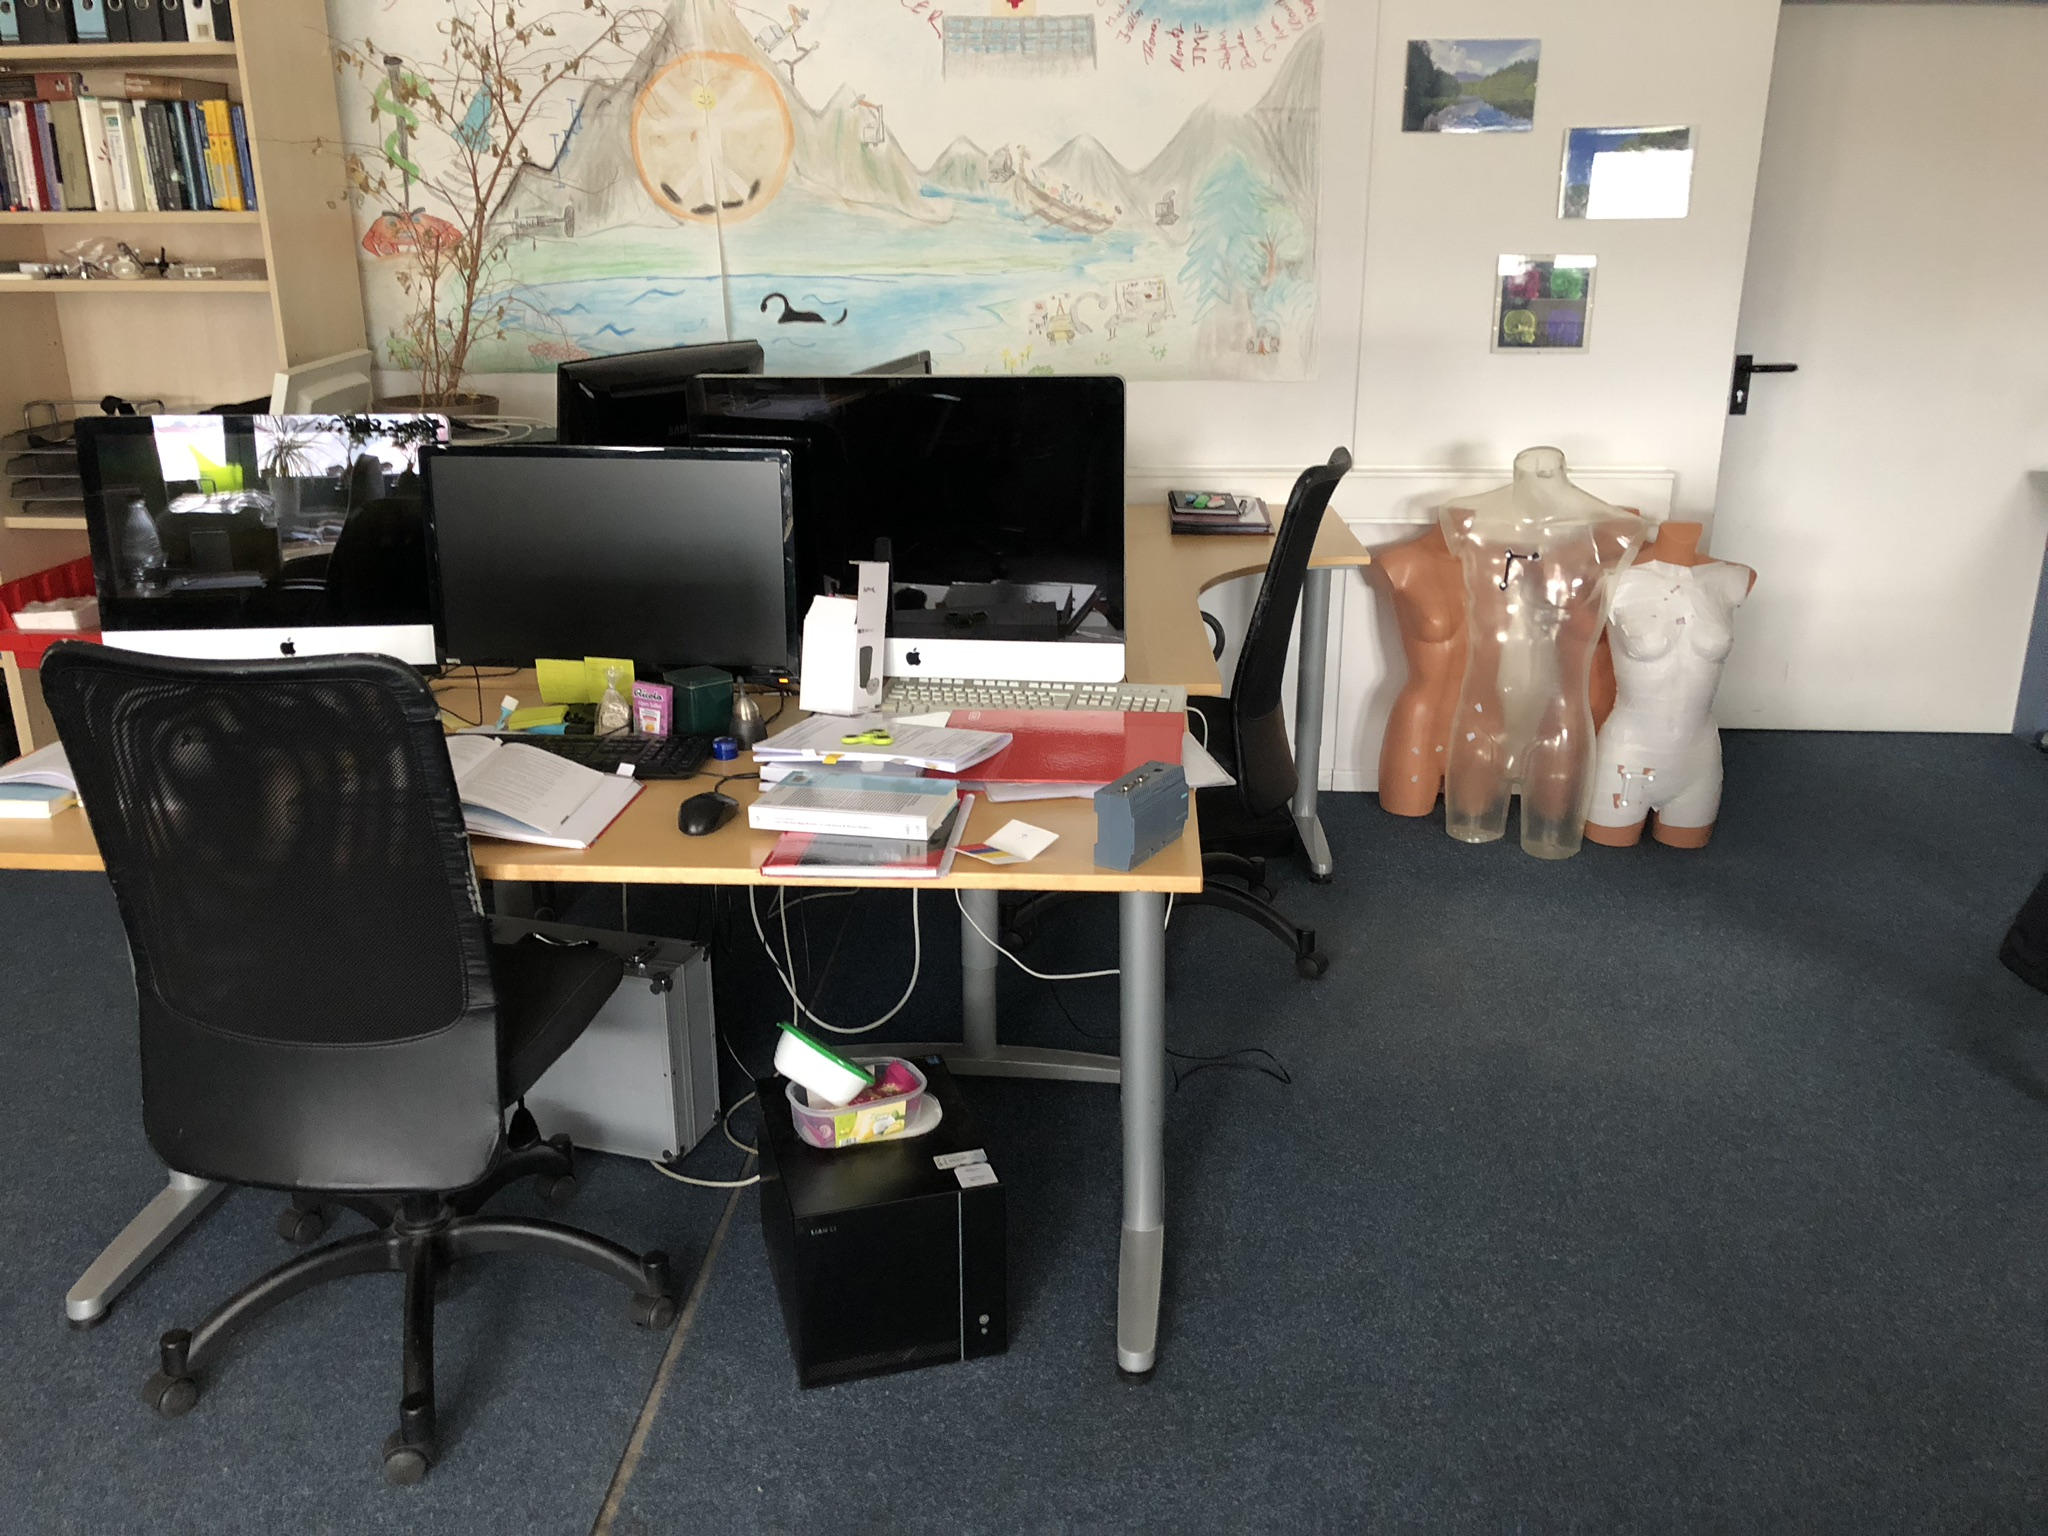device: (1093, 762, 1188, 871)
